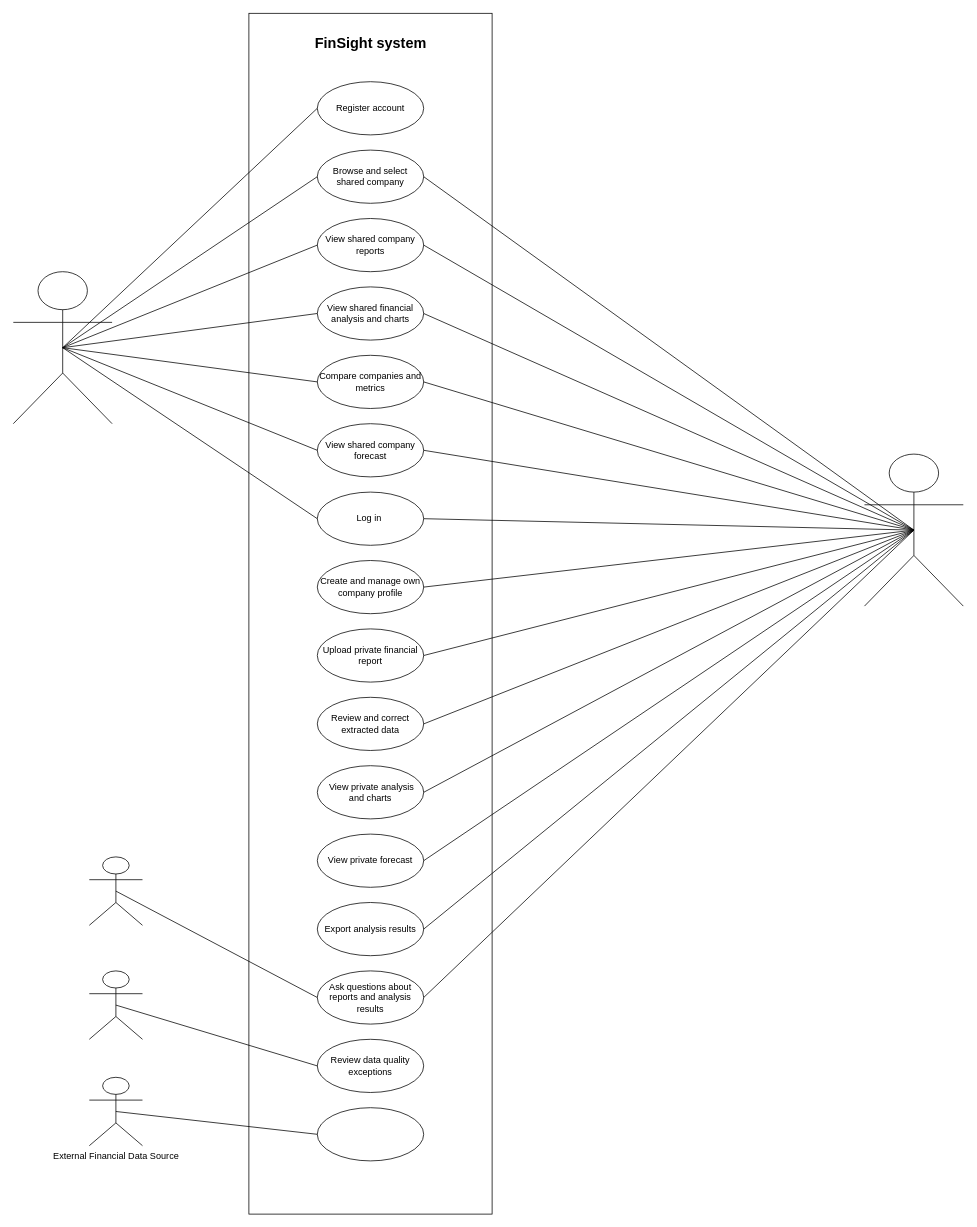
Some shapes in this 977 by 1227 pixel diagram are drawn without their labels. Here are the shapes that lost their labels. From the top down, the centre of each, then its label:
At (62,347): "Guest".
At (913,529): "Registered User".
At (115,890): "LLM Service".
At (115,1004): "Data Administrator".
At (370,1134): "Synchronize shared company data".
